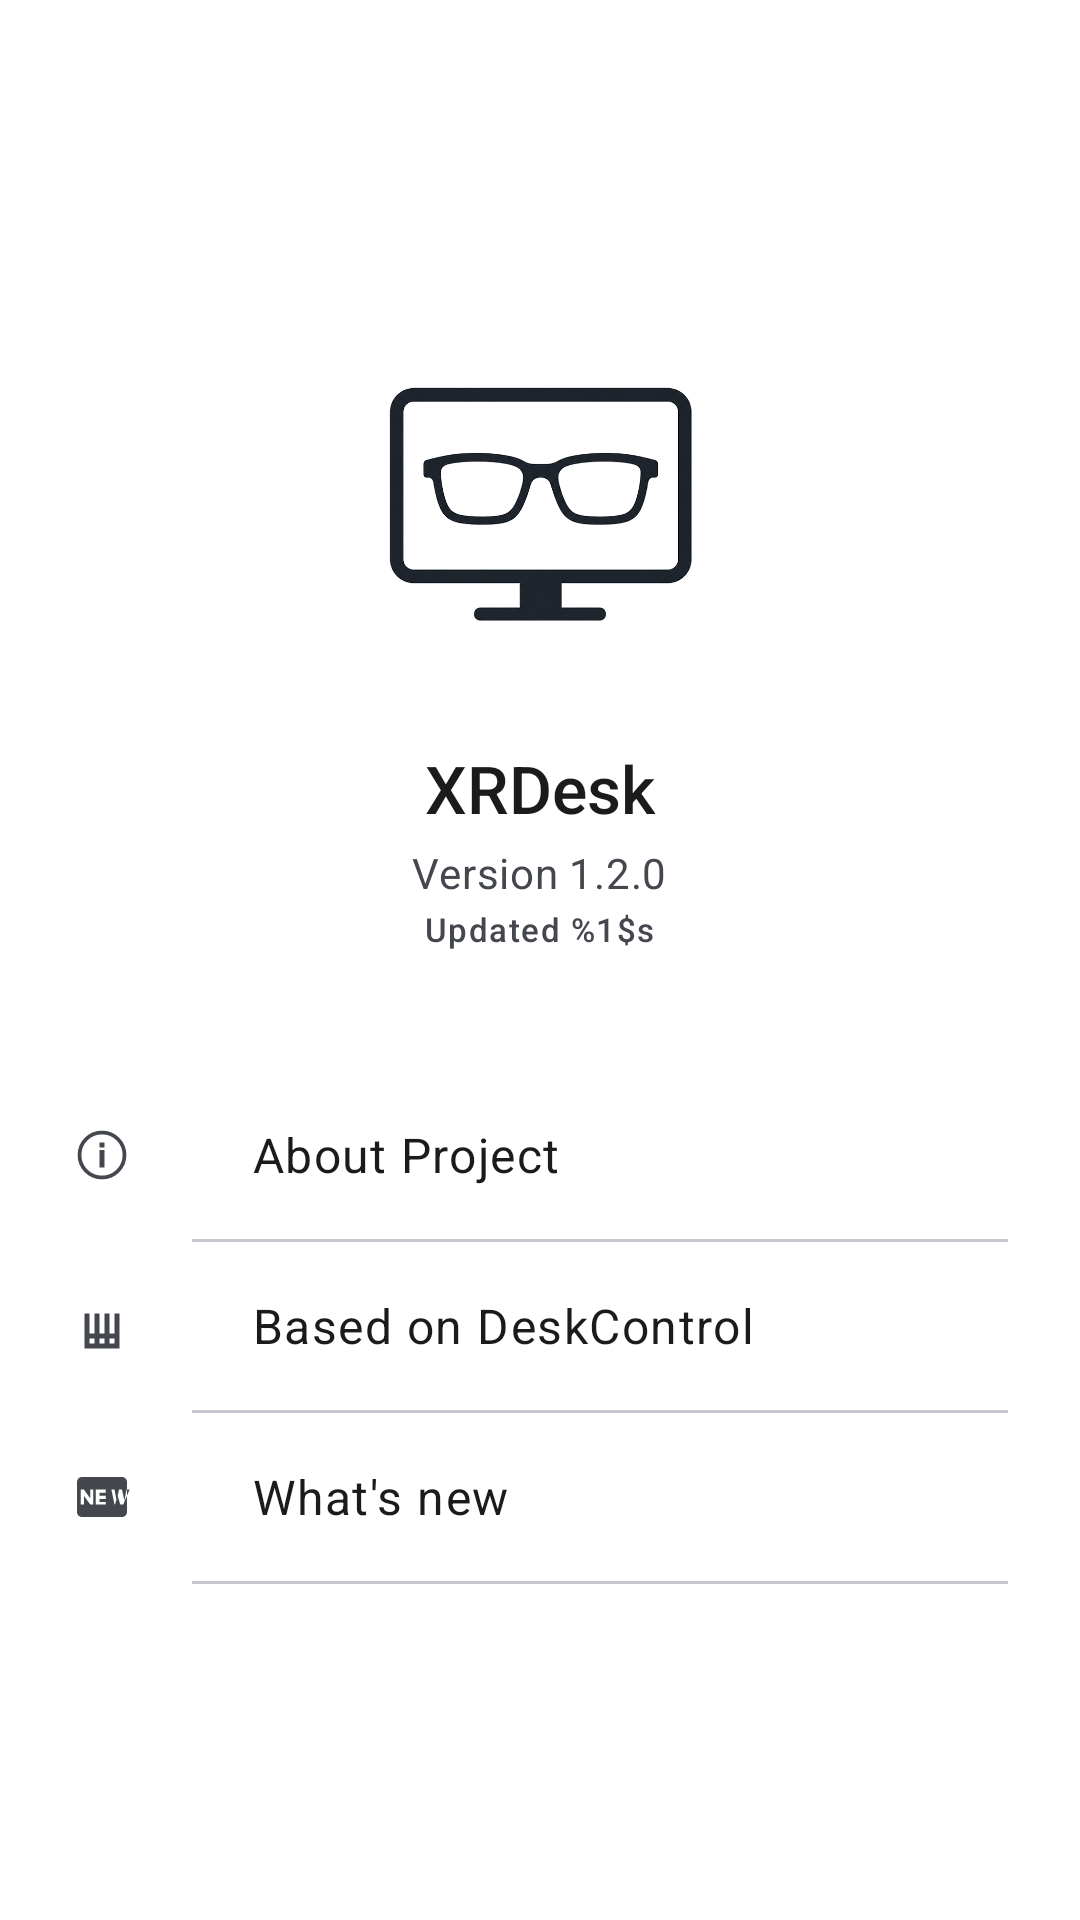

Screen size 1080*1920. Icon name, then its center in pixels as [x,y]:
info: [102,1155]
